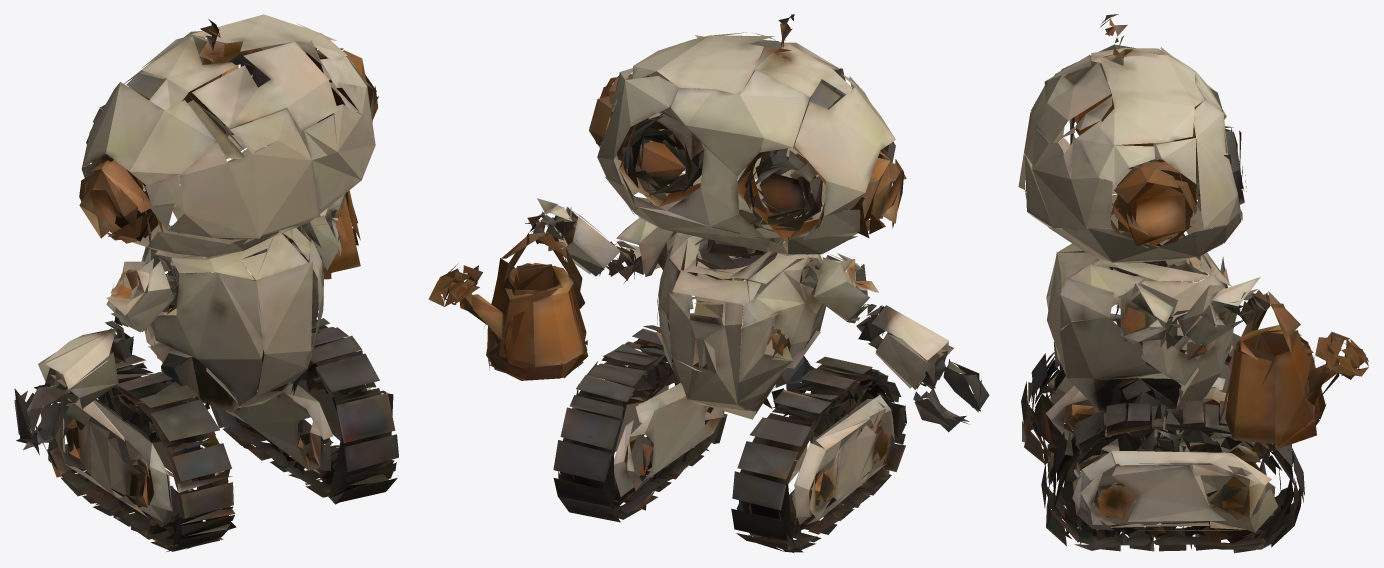
Rendered from robot-jardinier-bas.glb.
The picture shows the model from 3 angles, left to right: view 1: azimuth 30°, elevation 25°; view 2: azimuth 150°, elevation 25°; view 3: azimuth 270°, elevation 25°; orthographic projection. The views are drawn at different scales.
Visible parts, largest first — view 1: robot-jardinier-bas; view 2: robot-jardinier-bas; view 3: robot-jardinier-bas.
Boxes of the visible parts, <box> form: robot-jardinier-bas: <box>14,14,398,551</box>; robot-jardinier-bas: <box>428,14,989,552</box>; robot-jardinier-bas: <box>1018,14,1368,553</box>.
Size of the model in its own units: 1.22 by 1.3 by 0.8734.
Materials: 1 (1 with a texture image).
